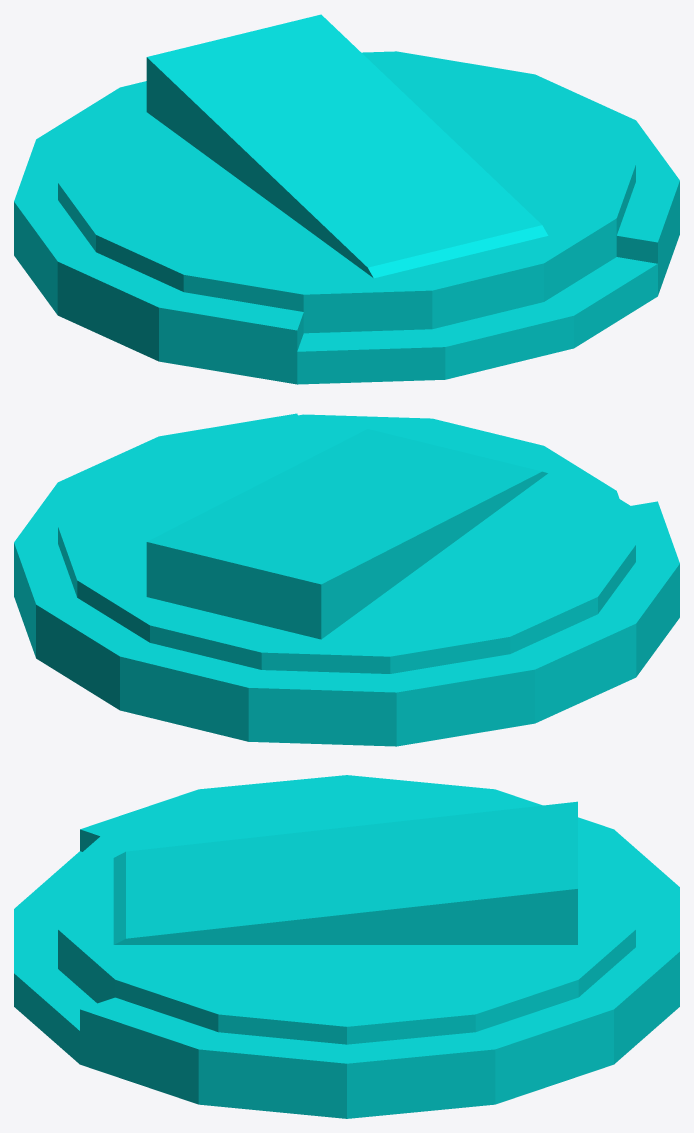
File: SM_Prop_Car_Stand_01_Collision.fbx
3 renders of one model, top to bottom at view 1: azimuth 30°, elevation 25°; view 2: azimuth 150°, elevation 25°; view 3: azimuth 270°, elevation 25°, orthographic. The views are drawn at different scales.
Visible parts, largest first — view 1: SM_Prop_Car_Stand_01_Collision; view 2: SM_Prop_Car_Stand_01_Collision; view 3: SM_Prop_Car_Stand_01_Collision.
Boxes of the visible parts, bbox=[...] form: SM_Prop_Car_Stand_01_Collision: bbox=[14, 14, 679, 384]; SM_Prop_Car_Stand_01_Collision: bbox=[14, 413, 679, 746]; SM_Prop_Car_Stand_01_Collision: bbox=[14, 775, 679, 1118].
Bounding box in the file's own units: 708 × 148 × 690.
